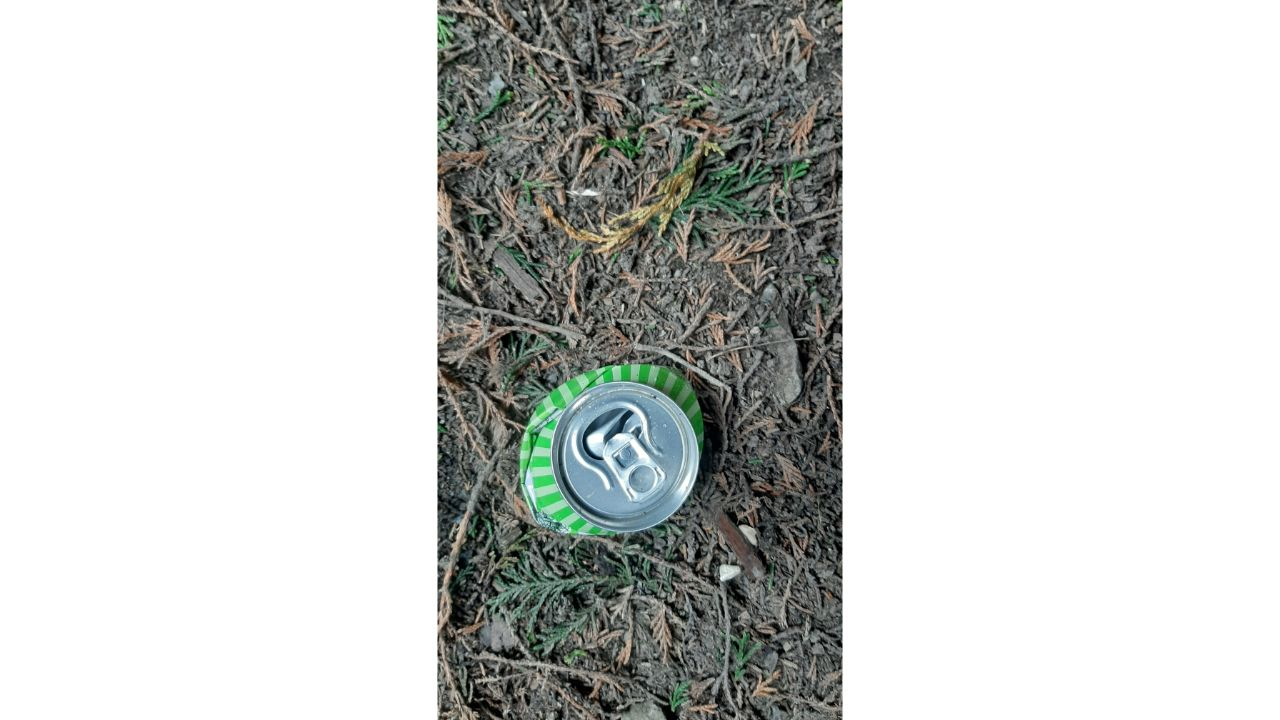Can: (521, 363, 703, 535)
